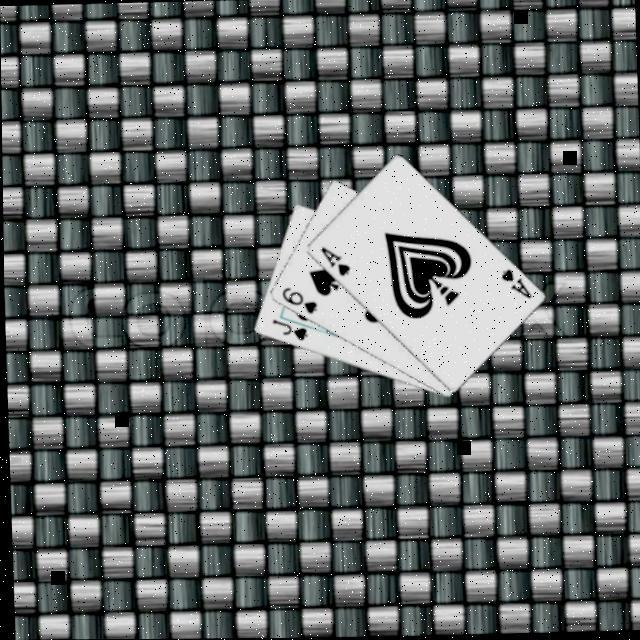6S: (276, 283, 317, 317)
AS: (495, 264, 532, 302), (314, 242, 351, 279)
JS: (266, 314, 308, 344)
